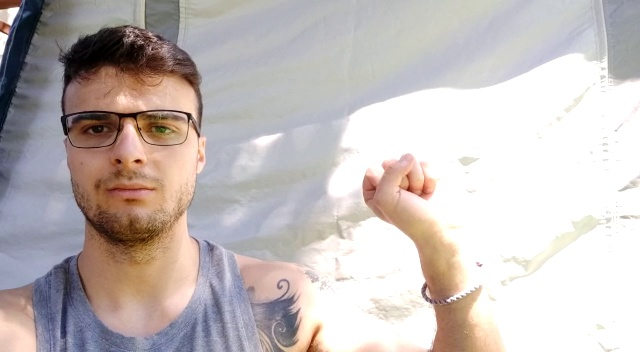Fist: (359, 149, 457, 236)
